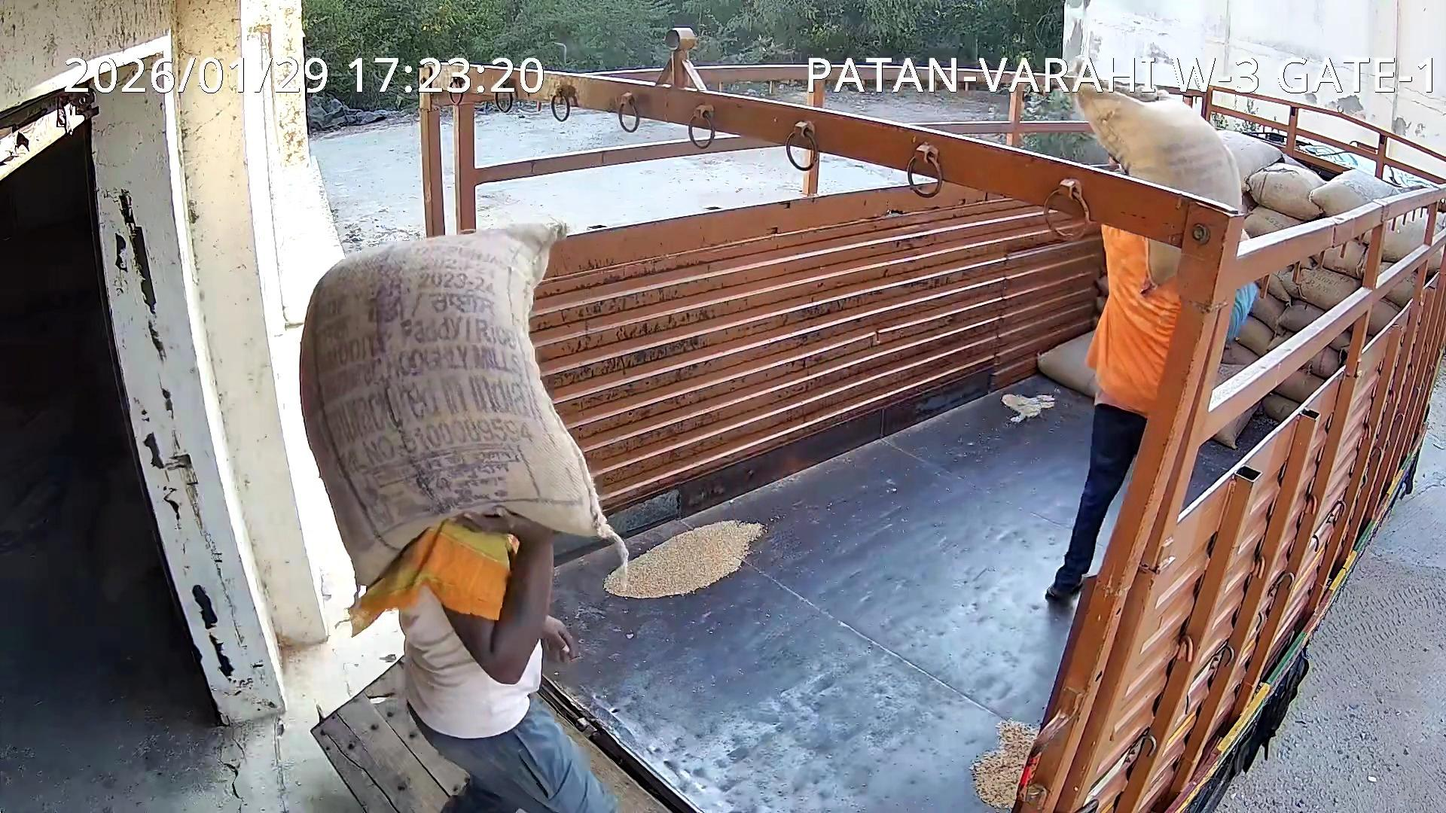Sack: (300, 222, 620, 585), (1075, 84, 1241, 208), (1149, 239, 1179, 282)
